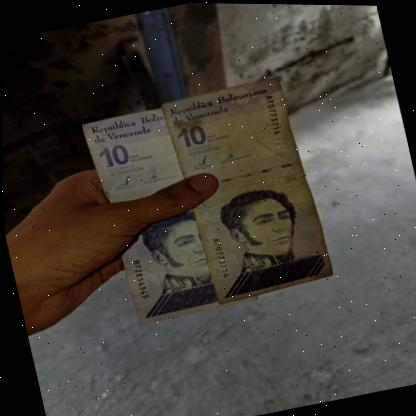ten-front-vef: (157, 69, 335, 308), (79, 102, 218, 328)
